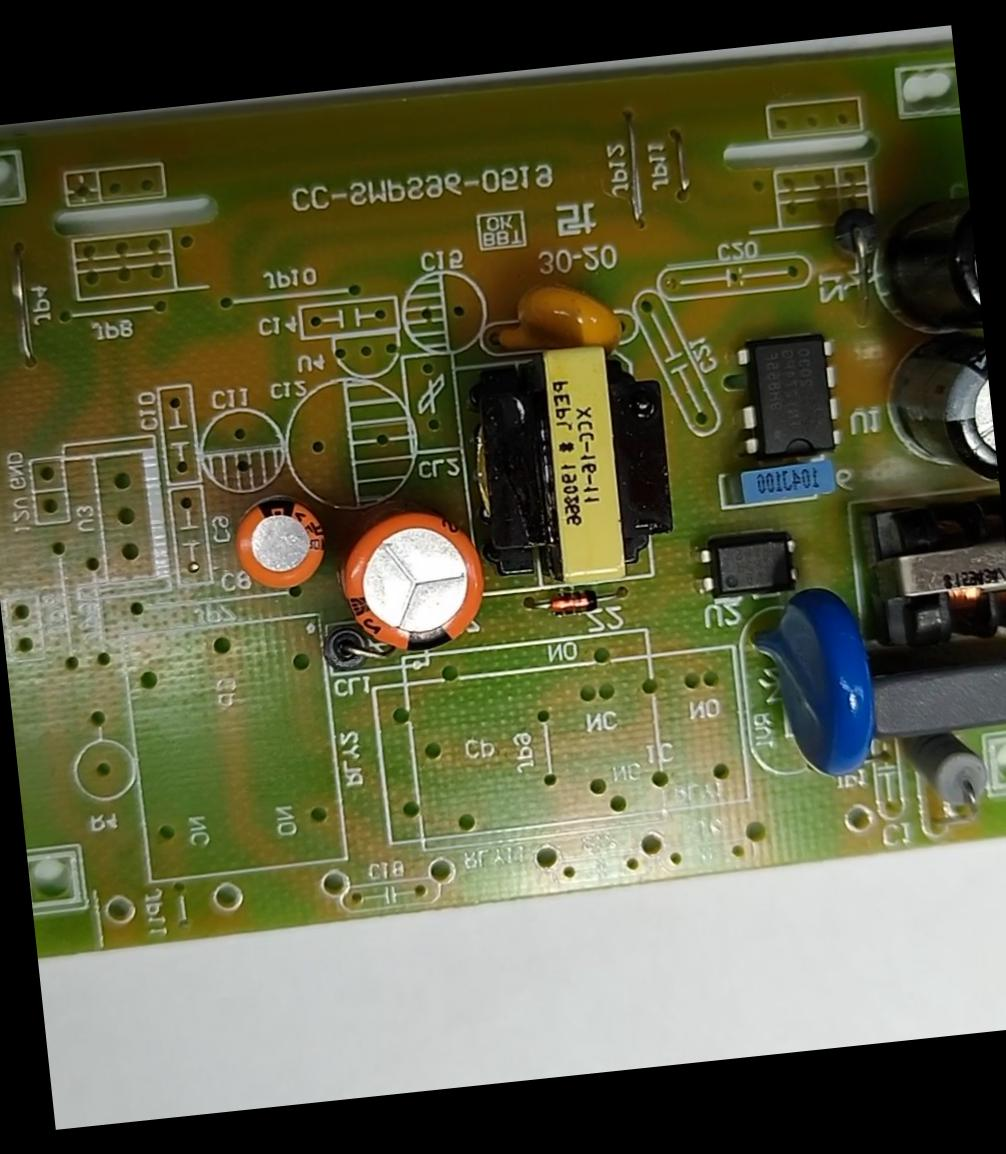Cap1: (333, 497, 492, 663)
Cap2: (224, 489, 335, 596)
Cap3: (881, 337, 998, 498)
Cap4: (867, 190, 982, 348)
MOSFET: (724, 332, 851, 464)
Mov: (742, 582, 883, 796)
Resistor: (895, 729, 998, 817)
Transformer: (454, 338, 684, 594), (857, 492, 1005, 659)
